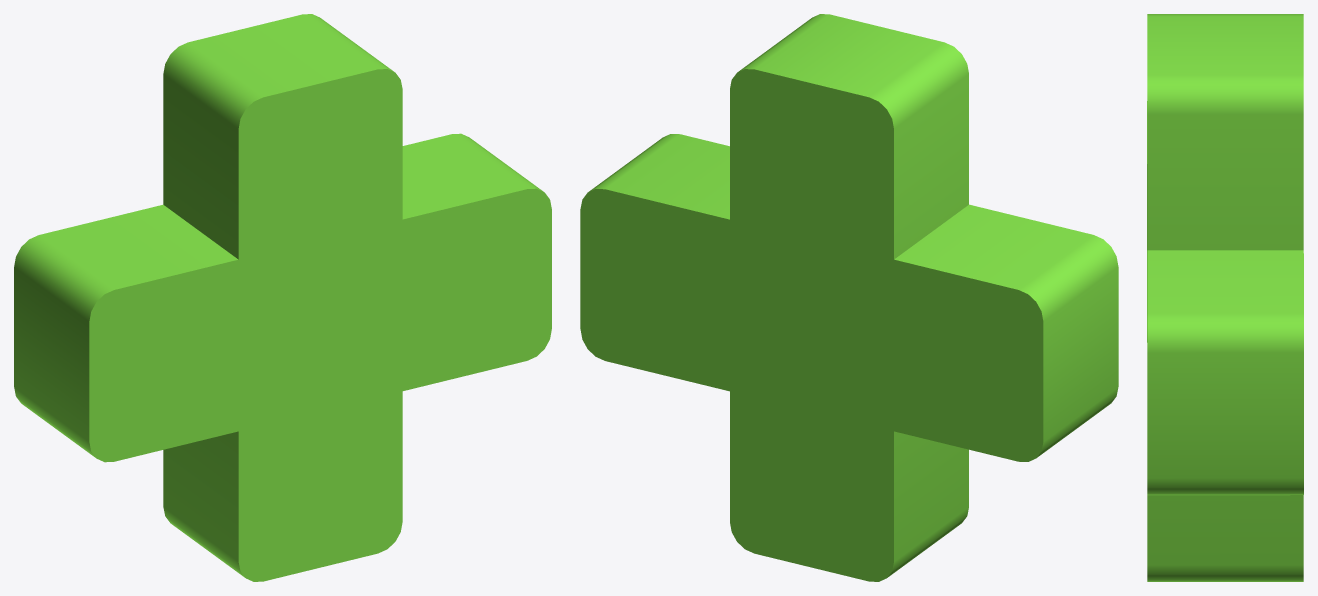
The model's file is healthpickup2.fbx.
The picture shows the model from 3 angles, left to right: view 1: azimuth 30°, elevation 25°; view 2: azimuth 150°, elevation 25°; view 3: azimuth 270°, elevation 25°; orthographic projection. The views are drawn at different scales.
Parts seen in each view (by area): view 1: Cube.001; view 2: Cube.001; view 3: Cube.001.
Boxes of the visible parts, <box> form: Cube.001: <box>14,14,551,581</box>; Cube.001: <box>580,14,1118,581</box>; Cube.001: <box>1147,14,1303,581</box>.
Size of the model in its own units: 67.39 by 67.37 by 19.01.
